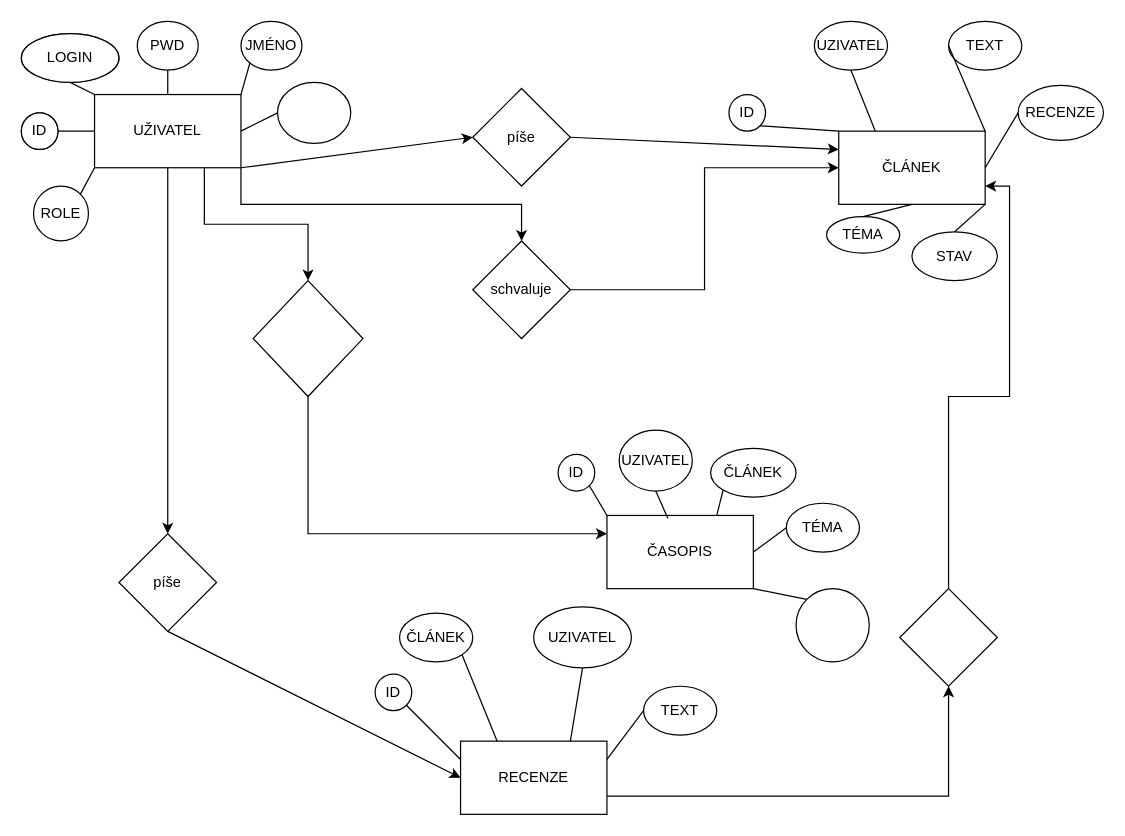
Image size: 1125x836. Some labels were removed from this diagram. The shapes that lost their labels are listed below. From the top down, each one's centre as x and y in pixels, then its label:
At (313,112): "PŘÍJMENÍ".
At (307,337): "odesílá články".
At (832,624): "VYDÁNÍ".
At (948,636): "hodnotí".
